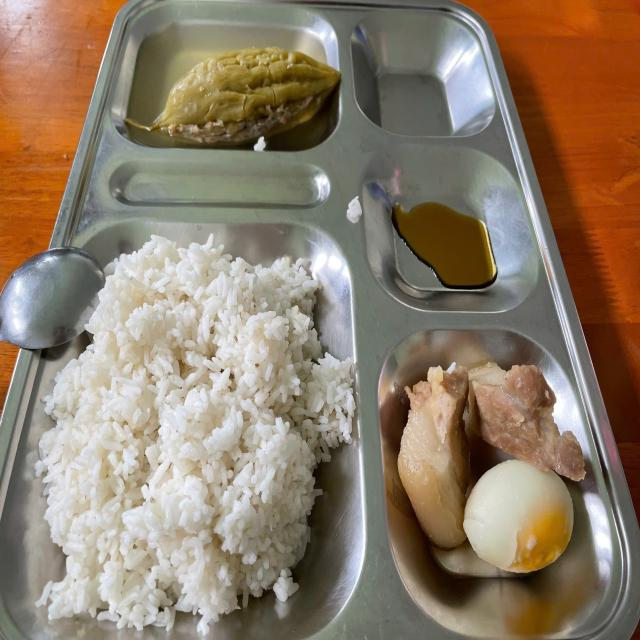canhkhoqua: (140, 26, 338, 147)
salad: (82, 245, 325, 618)
thitluoc: (410, 359, 578, 579)
